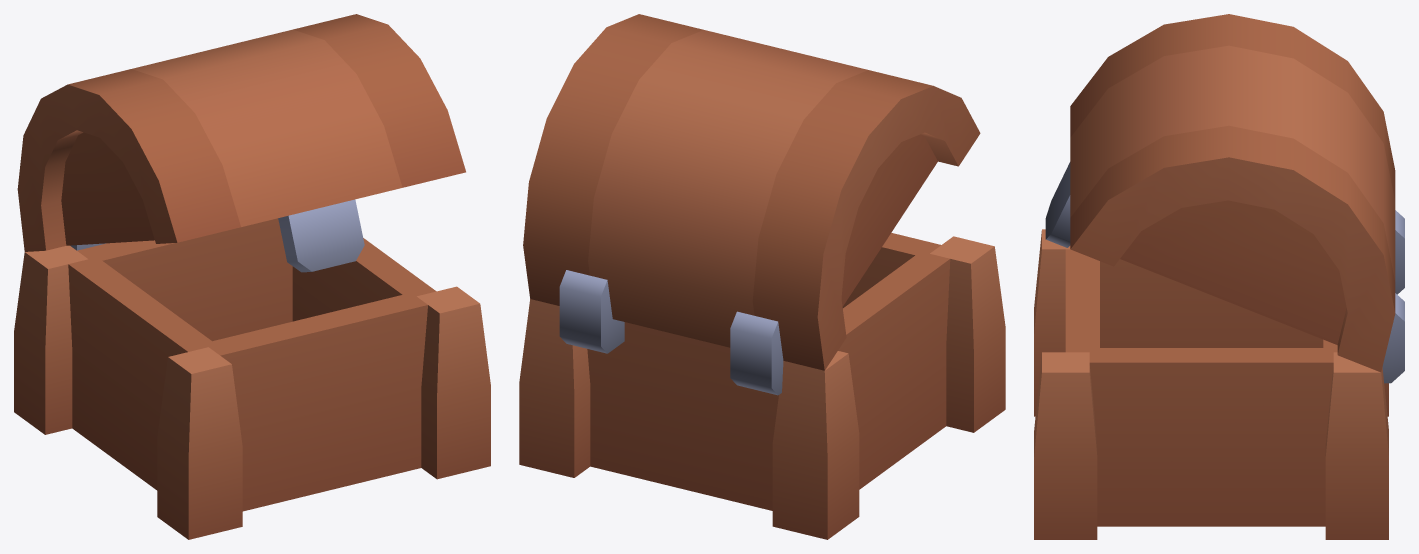
File: chest.glb
3 views of the same model, side by side, from view 1: azimuth 30°, elevation 25°; view 2: azimuth 150°, elevation 25°; view 3: azimuth 270°, elevation 25° (orthographic).
Parts seen in each view (by area): view 1: m; view 2: m; view 3: m.
Boxes of the visible parts, <box> form: m: <box>14,14,490,539</box>; m: <box>519,14,1005,539</box>; m: <box>1034,14,1404,539</box>.
Bounding box in the file's own units: 0.3 × 0.3537 × 0.3134.
